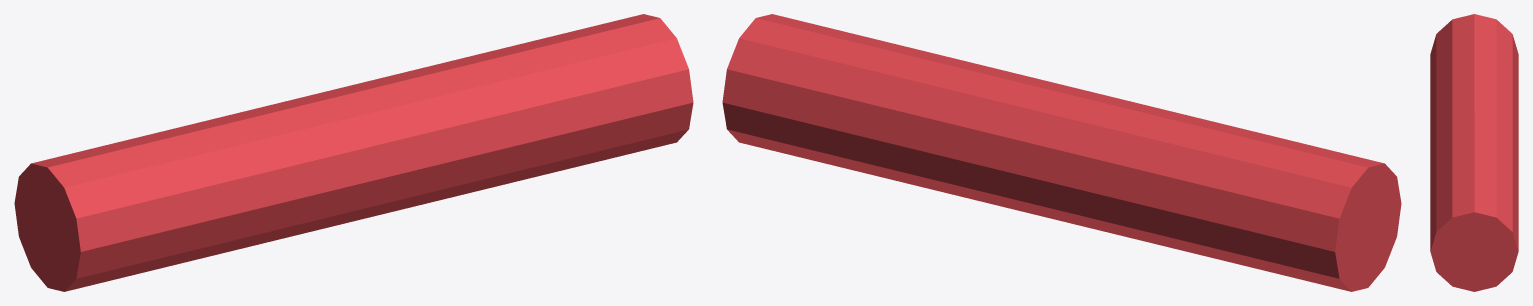
The model's file is Sausage_0.1.fbx.
3 views of the same model, side by side, from view 1: azimuth 30°, elevation 25°; view 2: azimuth 150°, elevation 25°; view 3: azimuth 270°, elevation 25° (orthographic). The views are drawn at different scales.
Visible parts, largest first — view 1: Cylinder; view 2: Cylinder; view 3: Cylinder.
Boxes of the visible parts, x1=… form: Cylinder: x1=14, y1=14, x2=693, y2=291; Cylinder: x1=722, y1=14, x2=1401, y2=291; Cylinder: x1=1430, y1=14, x2=1518, y2=291.
Size of the model in its own units: 158 by 29.65 by 29.65.
